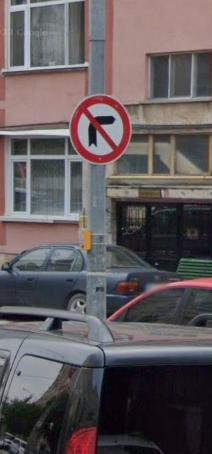rightturnsareforbidden: (73, 96, 126, 155)
